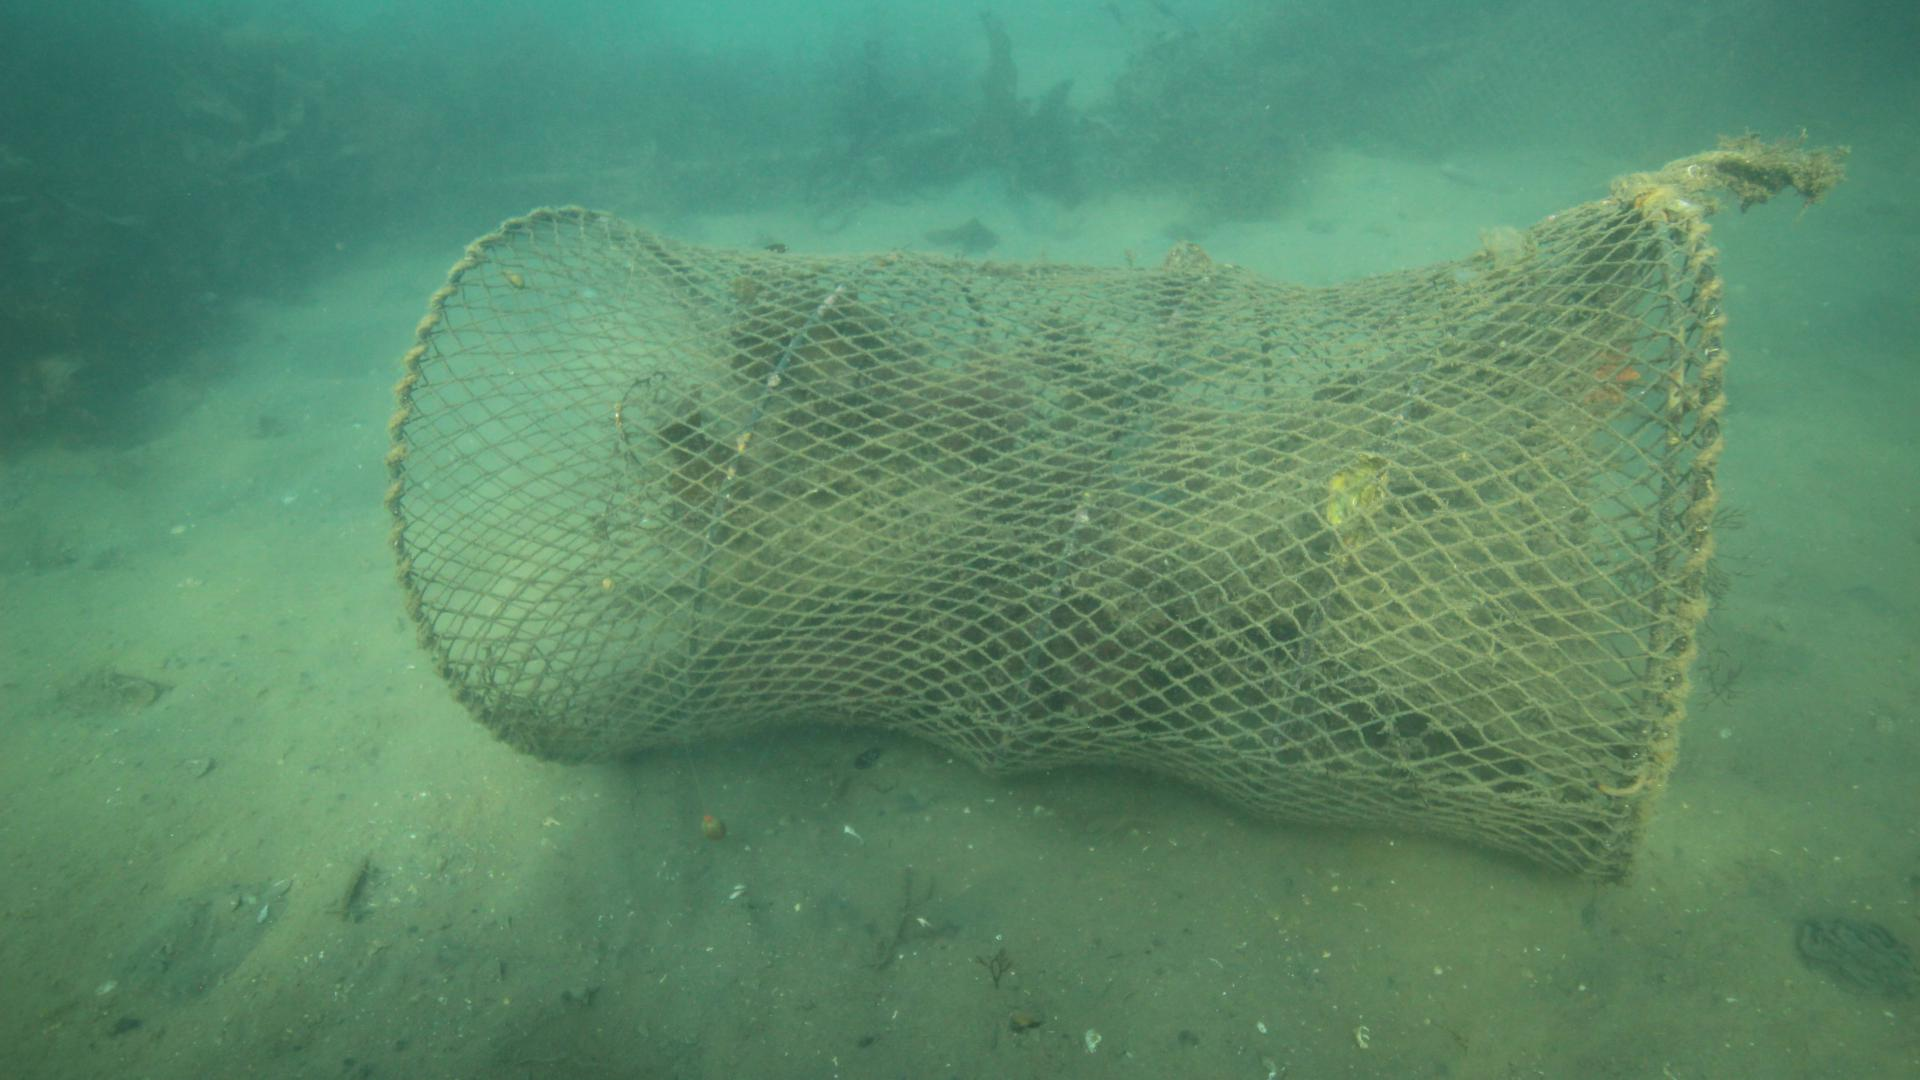spring fish trap: (382, 169, 1729, 887)
